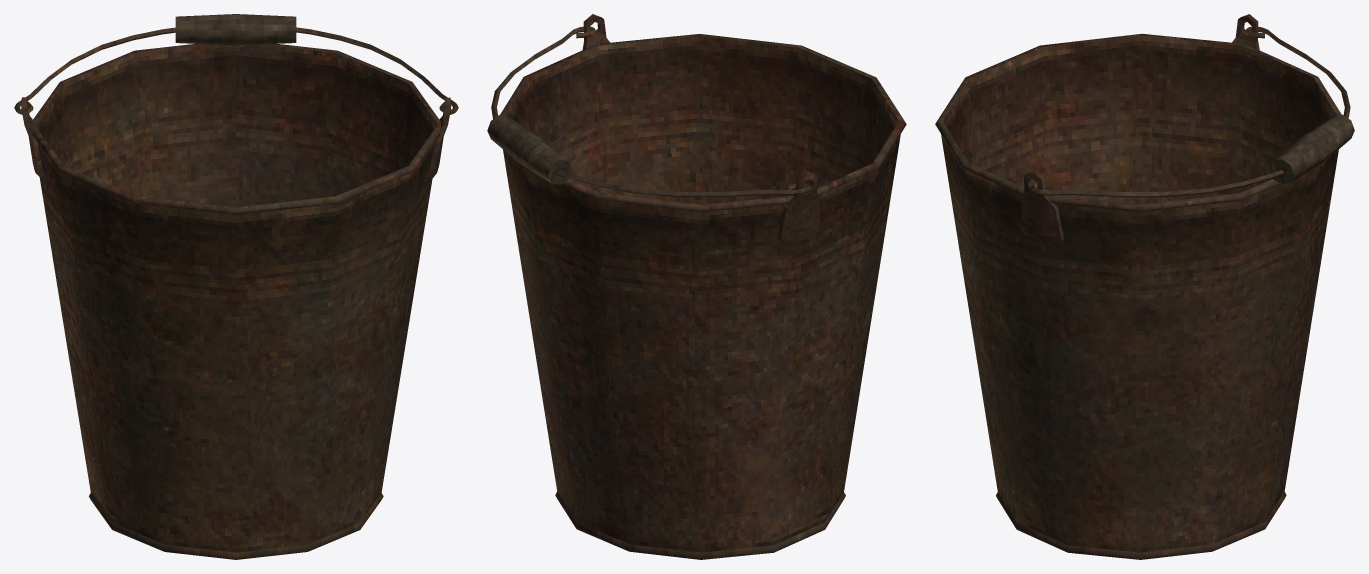
The model's file is bucket_mx_1.glb.
3 views of the same model, side by side, from view 1: azimuth 30°, elevation 25°; view 2: azimuth 150°, elevation 25°; view 3: azimuth 270°, elevation 25° (orthographic).
Parts seen in each view (by area): view 1: bucket_mx_1; view 2: bucket_mx_1; view 3: bucket_mx_1.
Part boxes in pixels (x1,y1,x2,y2): bucket_mx_1: (14,14,458,559); bucket_mx_1: (487,14,906,559); bucket_mx_1: (935,14,1354,559).
Size of the model in its own units: 0.43 by 0.4654 by 0.4359.
1 material, 1 textured.
